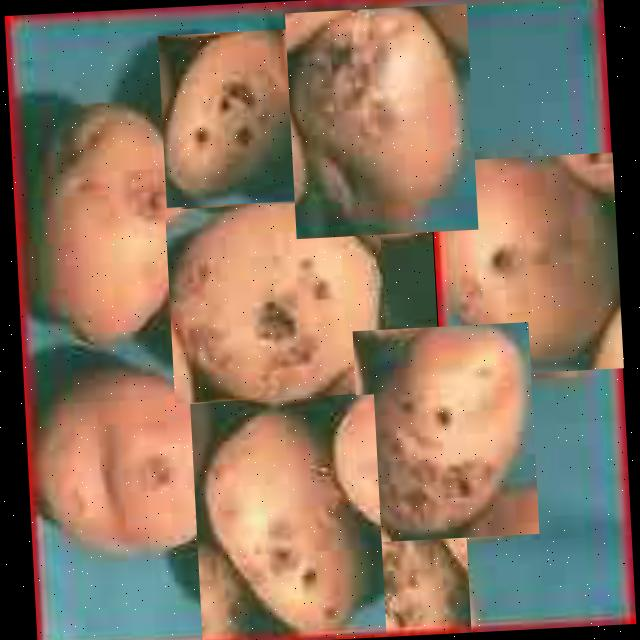Defected potato: (428, 152, 623, 378)
Diseased-fungal potato: (189, 394, 385, 640), (12, 96, 194, 352), (164, 199, 388, 404), (284, 4, 478, 239), (22, 364, 246, 560), (352, 322, 538, 543), (157, 29, 308, 208), (328, 518, 471, 640)
